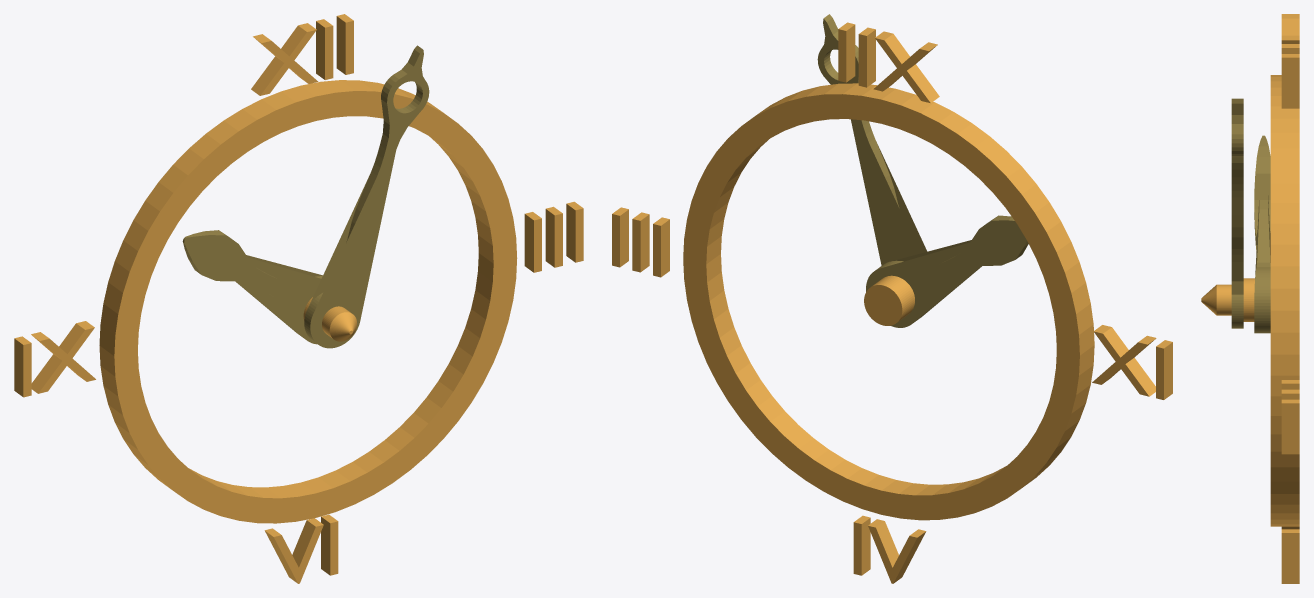
The model's file is clock.fbx.
3 renders of one model, left to right at view 1: azimuth 30°, elevation 25°; view 2: azimuth 150°, elevation 25°; view 3: azimuth 270°, elevation 25°, orthographic. The views are drawn at different scales.
Visible parts, largest first — view 1: Cylinder, minute, hour, Text, Text.001, Text.002, Text.003, Cylinder.001; view 2: Cylinder, hour, minute, Text, Text.001, Text.002, Text.003, Cylinder.001; view 3: Cylinder, hour, minute, Text, Text.002, Cylinder.001, Text.003.
Part boxes in pixels (x1,y1,x2,y2): Cylinder: (99,80,517,523); minute: (304,45,429,348); hour: (182,230,322,344); Text: (251,14,353,95); Text.001: (14,321,95,397); Text.002: (524,201,583,272); Text.003: (264,514,338,583); Cylinder.001: (303,297,357,341); Cylinder: (683,83,1094,520); hour: (866,215,1028,327); minute: (817,14,927,265); Text: (838,22,939,103); Text.001: (1092,325,1172,399); Text.002: (612,207,669,277); Text.003: (853,515,926,583); Cylinder.001: (864,275,914,325); Cylinder: (1270,75,1299,526); hour: (1254,135,1270,333); minute: (1231,98,1243,328); Text: (1281,14,1299,108); Text.002: (1281,380,1299,454); Cylinder.001: (1201,278,1254,321); Text.003: (1281,526,1299,583).
Size of the model in its own units: 1056 by 990 by 165.
